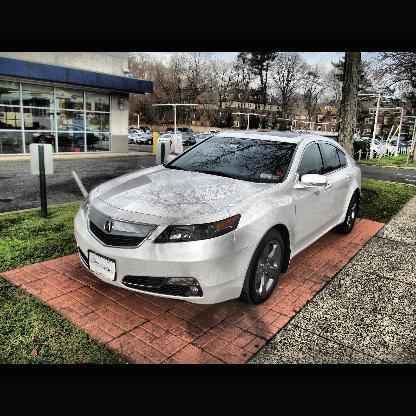Acura TL Sedan 2012: (75, 131, 366, 308)
